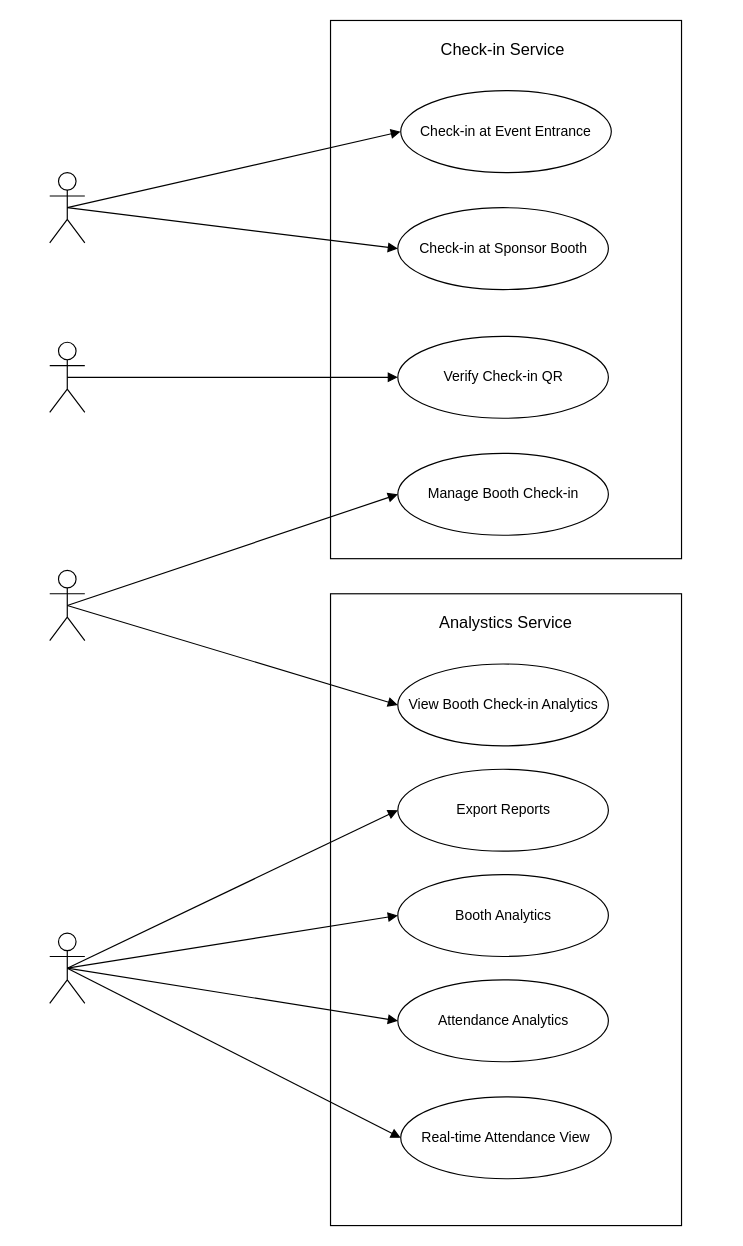
Image size: 743x1246. Some labels were removed from this diagram. The shapes that lost their labels are listed below. From the top down, each one's centre as x and y in pixels, then its label:
At [67,207]: "Visitor/Guest".
At [67,376]: "Checking staff".
At [67,605]: "Sponsor".
At [67,967]: "Event Operator".
